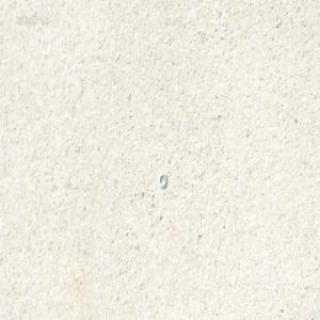Washertrack_idkeyframe: (159, 172, 167, 188)
